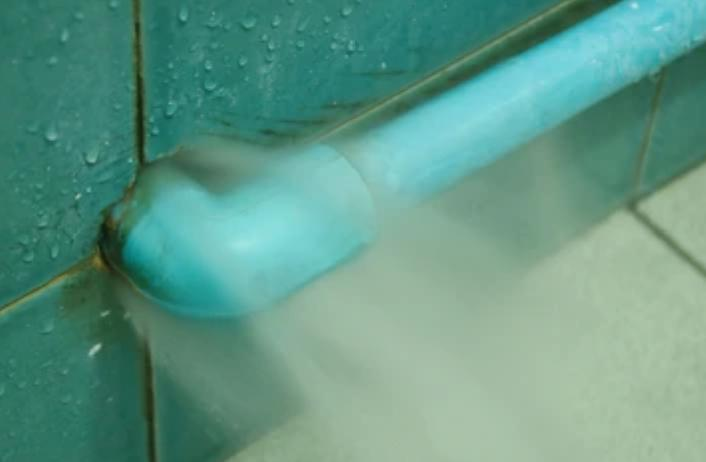pipe burst: (99, 128, 564, 462)
